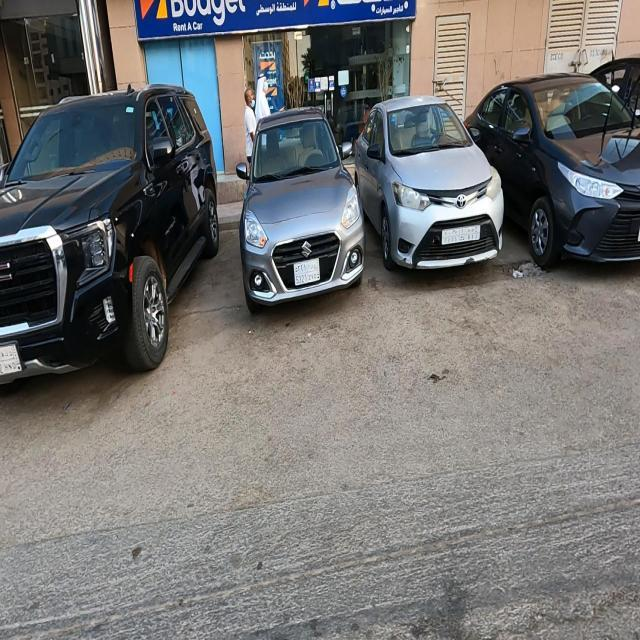debris: (508, 252, 534, 301)
